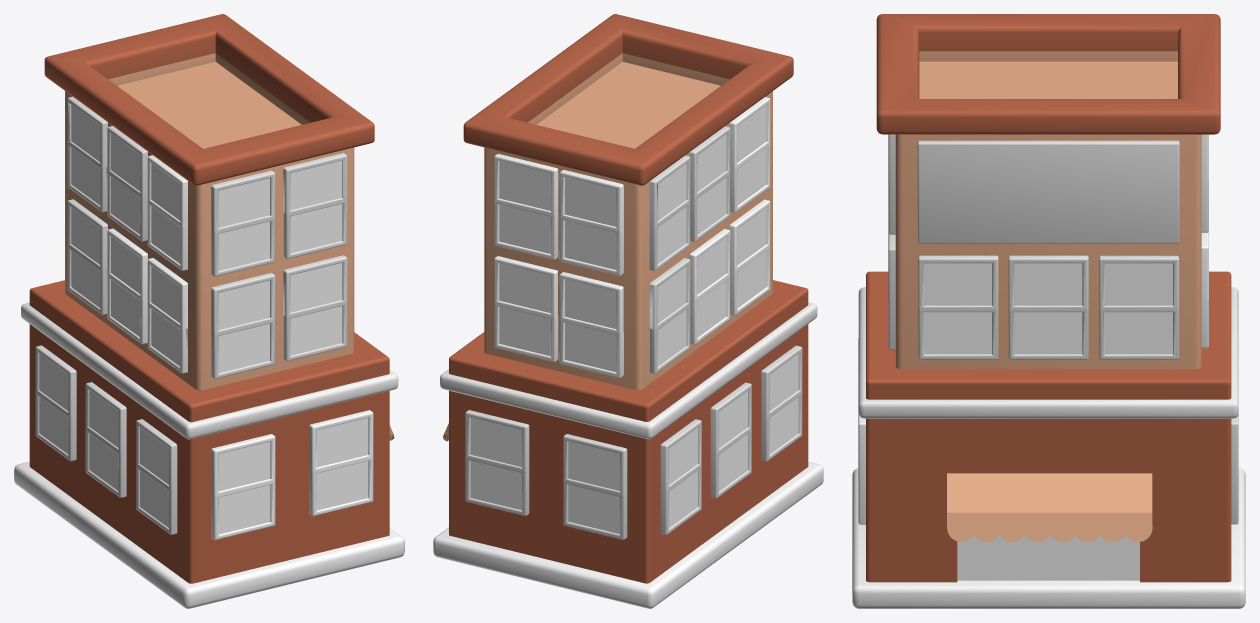
Rendered from building_11.obj.
3 renders of one model, left to right at view 1: azimuth 30°, elevation 25°; view 2: azimuth 150°, elevation 25°; view 3: azimuth 270°, elevation 25°, orthographic. The views are drawn at different scales.
Visible parts, largest first — view 1: Cube_5, Cube.2_1, Cube.13_1, Cube.11, Cube.12, Cube.6_12, Cube.1_3, Cube.6_3, Cube.6_13, Cube.1_4, Cube.6_2, Cube.4_2 (+23 smaller); view 2: Cube_5, Cube.2_1, Cube.13_1, Cube.11, Cube.12, Cube.1_1, Cube.6, Cube.6_10, Cube.6_1, Cube.1_2, Cube.6_11, Cube_1 (+23 smaller); view 3: Cube_5, Cube.2_1, Cube.13_1, Cube.3_2, Cube.13, Cube.11, Cube.12, Cube.6_14, Cube.6_15, Cube.6_16, Cube.10, Cube.9 (+9 smaller).
Part boxes in pixels (box(x1,y1,x2,y2)): Cube_5: box(29, 280, 389, 583); Cube.2_1: box(65, 53, 354, 390); Cube.13_1: box(44, 14, 374, 185); Cube.11: box(14, 461, 404, 608); Cube.12: box(21, 302, 398, 439); Cube.6_12: box(290, 263, 342, 355); Cube.1_3: box(290, 160, 342, 253); Cube.6_3: box(316, 417, 368, 510); Cube.6_13: box(218, 280, 269, 372); Cube.1_4: box(218, 178, 269, 270); Cube.6_2: box(219, 441, 270, 534); Cube.4_2: box(211, 434, 275, 540); Cube_5: box(449, 280, 808, 583); Cube.2_1: box(484, 53, 772, 390); Cube.13_1: box(463, 14, 793, 185); Cube.11: box(433, 462, 823, 608); Cube.12: box(440, 302, 817, 439); Cube.1_1: box(499, 161, 550, 253); Cube.6: box(568, 441, 619, 534); Cube.6_10: box(499, 263, 550, 356); Cube.6_1: box(470, 417, 521, 510); Cube.1_2: box(565, 177, 616, 269); Cube.6_11: box(565, 279, 616, 372); Cube_1: box(494, 154, 558, 259); Cube_5: box(866, 271, 1231, 582); Cube.2_1: box(895, 51, 1201, 369); Cube.13_1: box(876, 14, 1220, 134); Cube.3_2: box(917, 140, 1179, 243); Cube.13: box(947, 473, 1152, 542); Cube.11: box(852, 468, 1245, 608); Cube.12: box(858, 287, 1238, 418); Cube.6_14: box(1105, 263, 1172, 354); Cube.6_15: box(1015, 263, 1082, 354); Cube.6_16: box(924, 263, 991, 354); Cube.10: box(1047, 535, 1139, 580); Cube.9: box(957, 535, 1047, 580).
Bounding box in the file's own units: 264 × 430 × 314.
